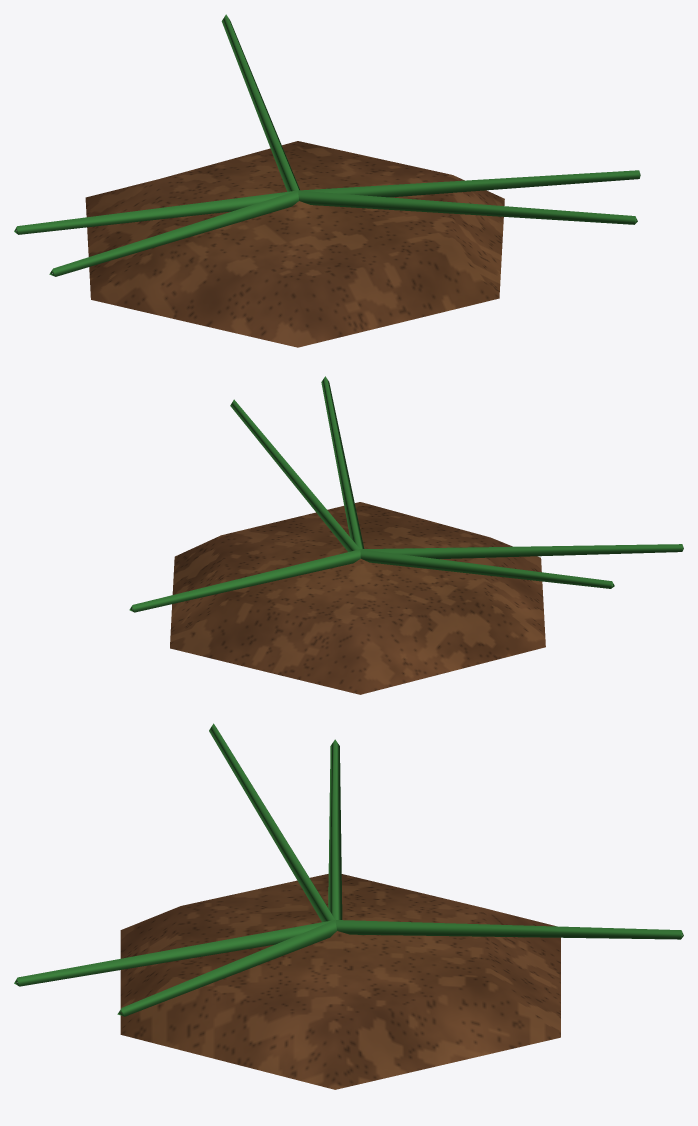
File: plant-watermelon-3-far.glb
3 views of the same model, one above another, from view 1: azimuth 30°, elevation 25°; view 2: azimuth 150°, elevation 25°; view 3: azimuth 270°, elevation 25° (orthographic). The views are drawn at different scales.
Visible parts, largest first — view 1: plant-watermelon-3-far; view 2: plant-watermelon-3-far; view 3: plant-watermelon-3-far.
Boxes of the visible parts, bbox=[...] form: plant-watermelon-3-far: bbox=[14, 14, 640, 347]; plant-watermelon-3-far: bbox=[129, 376, 683, 694]; plant-watermelon-3-far: bbox=[14, 723, 683, 1089].
Size of the model in its own units: 1.4 by 0.1873 by 1.11.
Materials: 3 (1 with a texture image).
